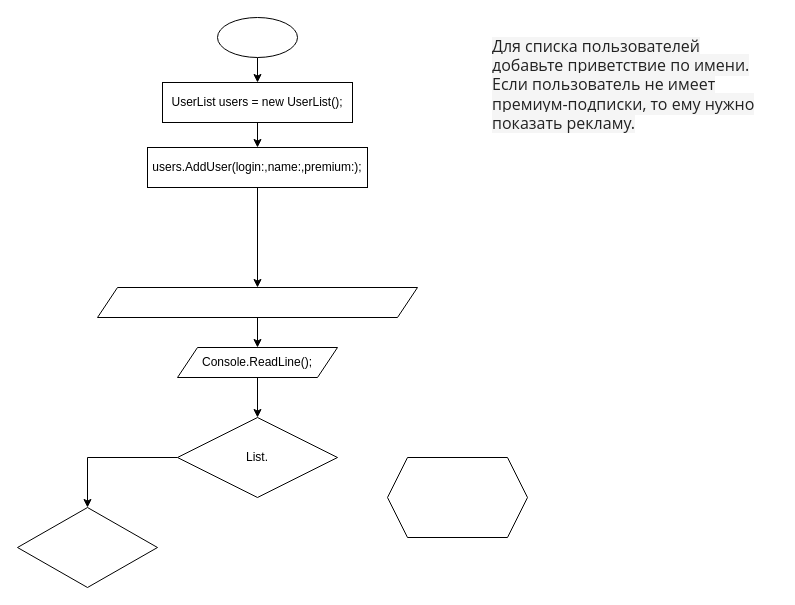
The diagram is 795 pixels wide and 605 high, and some of its shapes have lost their labels. Each missing label, with the centre of its shape:
string LogName = Console.Writeline("Введите имя");: pixel 257 302
Начало: pixel 257 37
